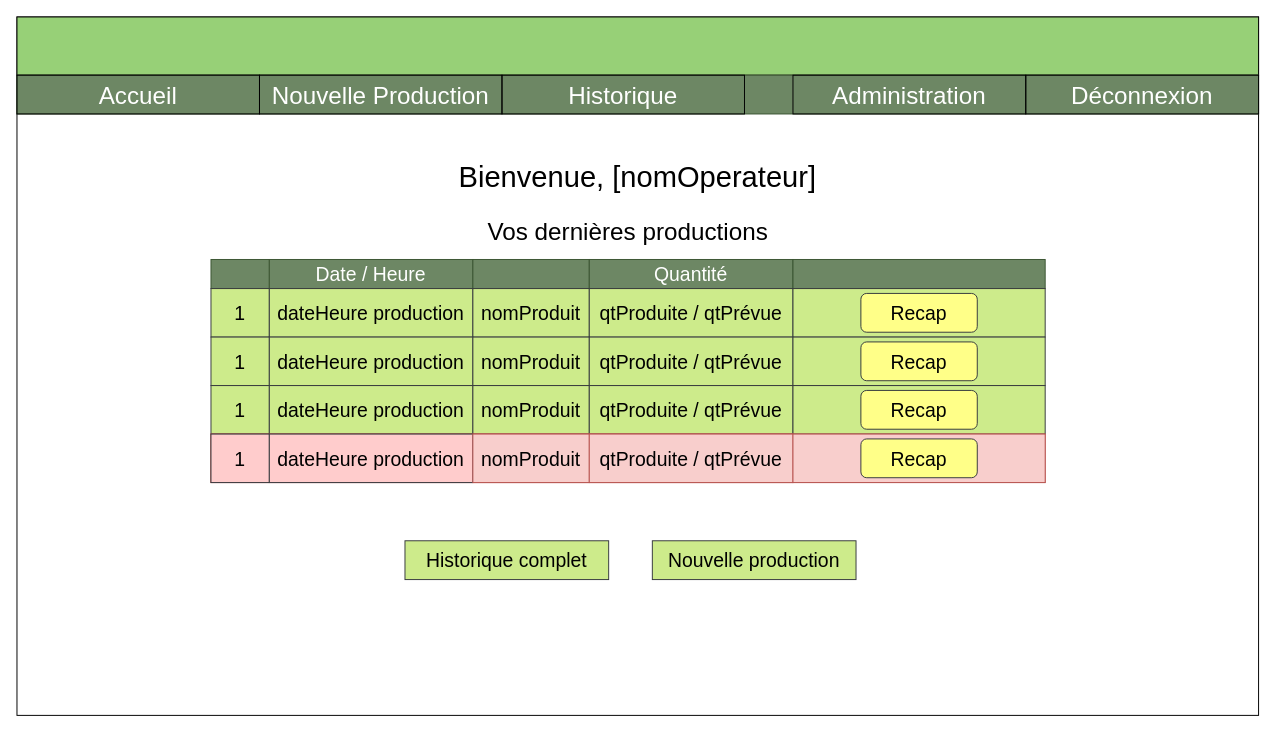
The diagram is 1276 pixels wide and 732 high, and some of its shapes have lost their labels. The box of each missing label's shape, as (x1, y1, x2, y2) in pixels:
Action: (792, 259, 1045, 289)
Gestion de production: (16, 16, 1259, 75)
ID: (210, 259, 269, 289)
Produit: (472, 259, 589, 289)
